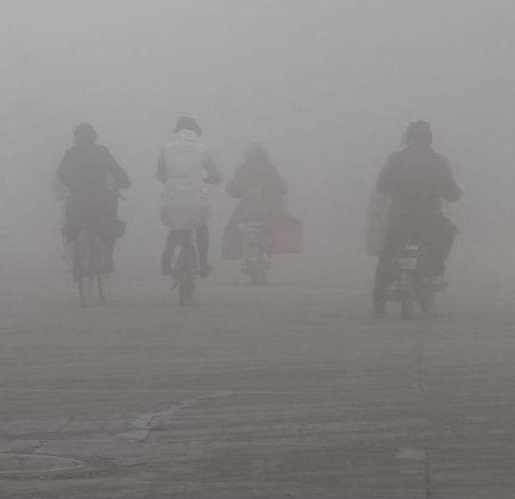person: (362, 119, 470, 323), (52, 121, 134, 307), (153, 113, 225, 306), (222, 141, 307, 285)
